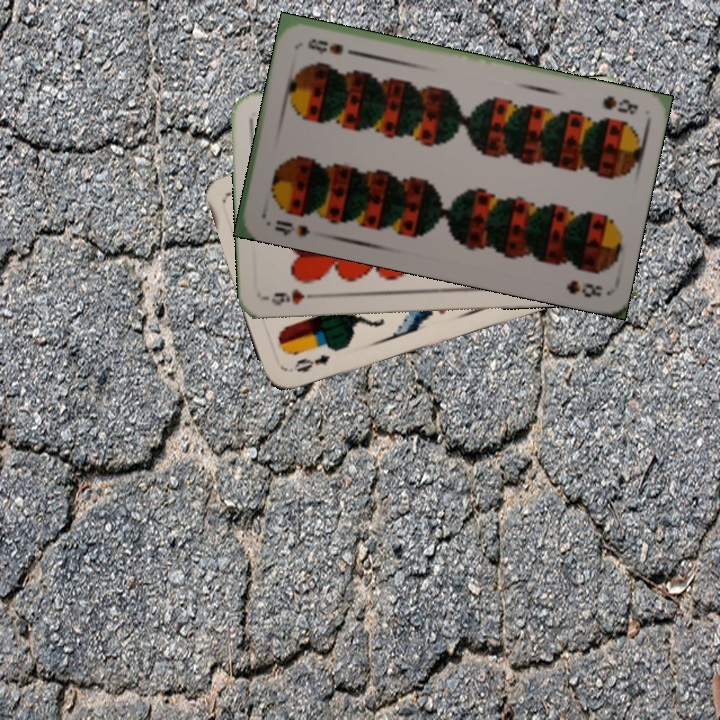EO: (283, 350, 333, 375)
H9: (268, 284, 322, 308)
S8: (598, 91, 641, 117), (270, 216, 312, 240)
